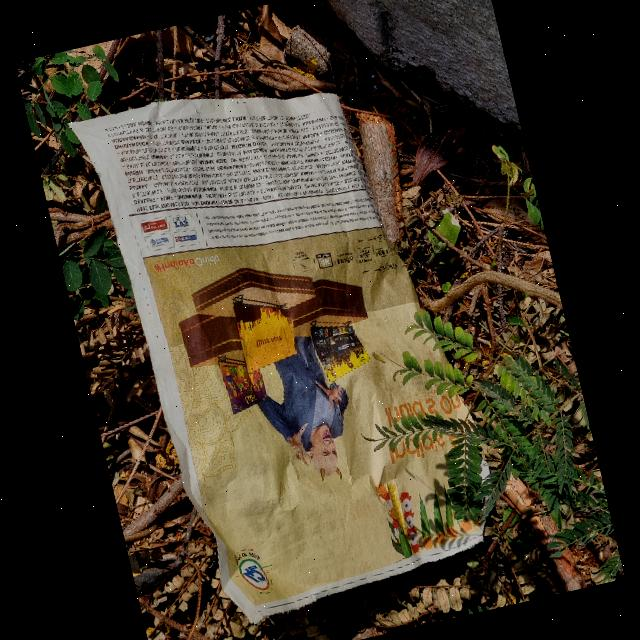trash: (68, 46, 511, 638)
